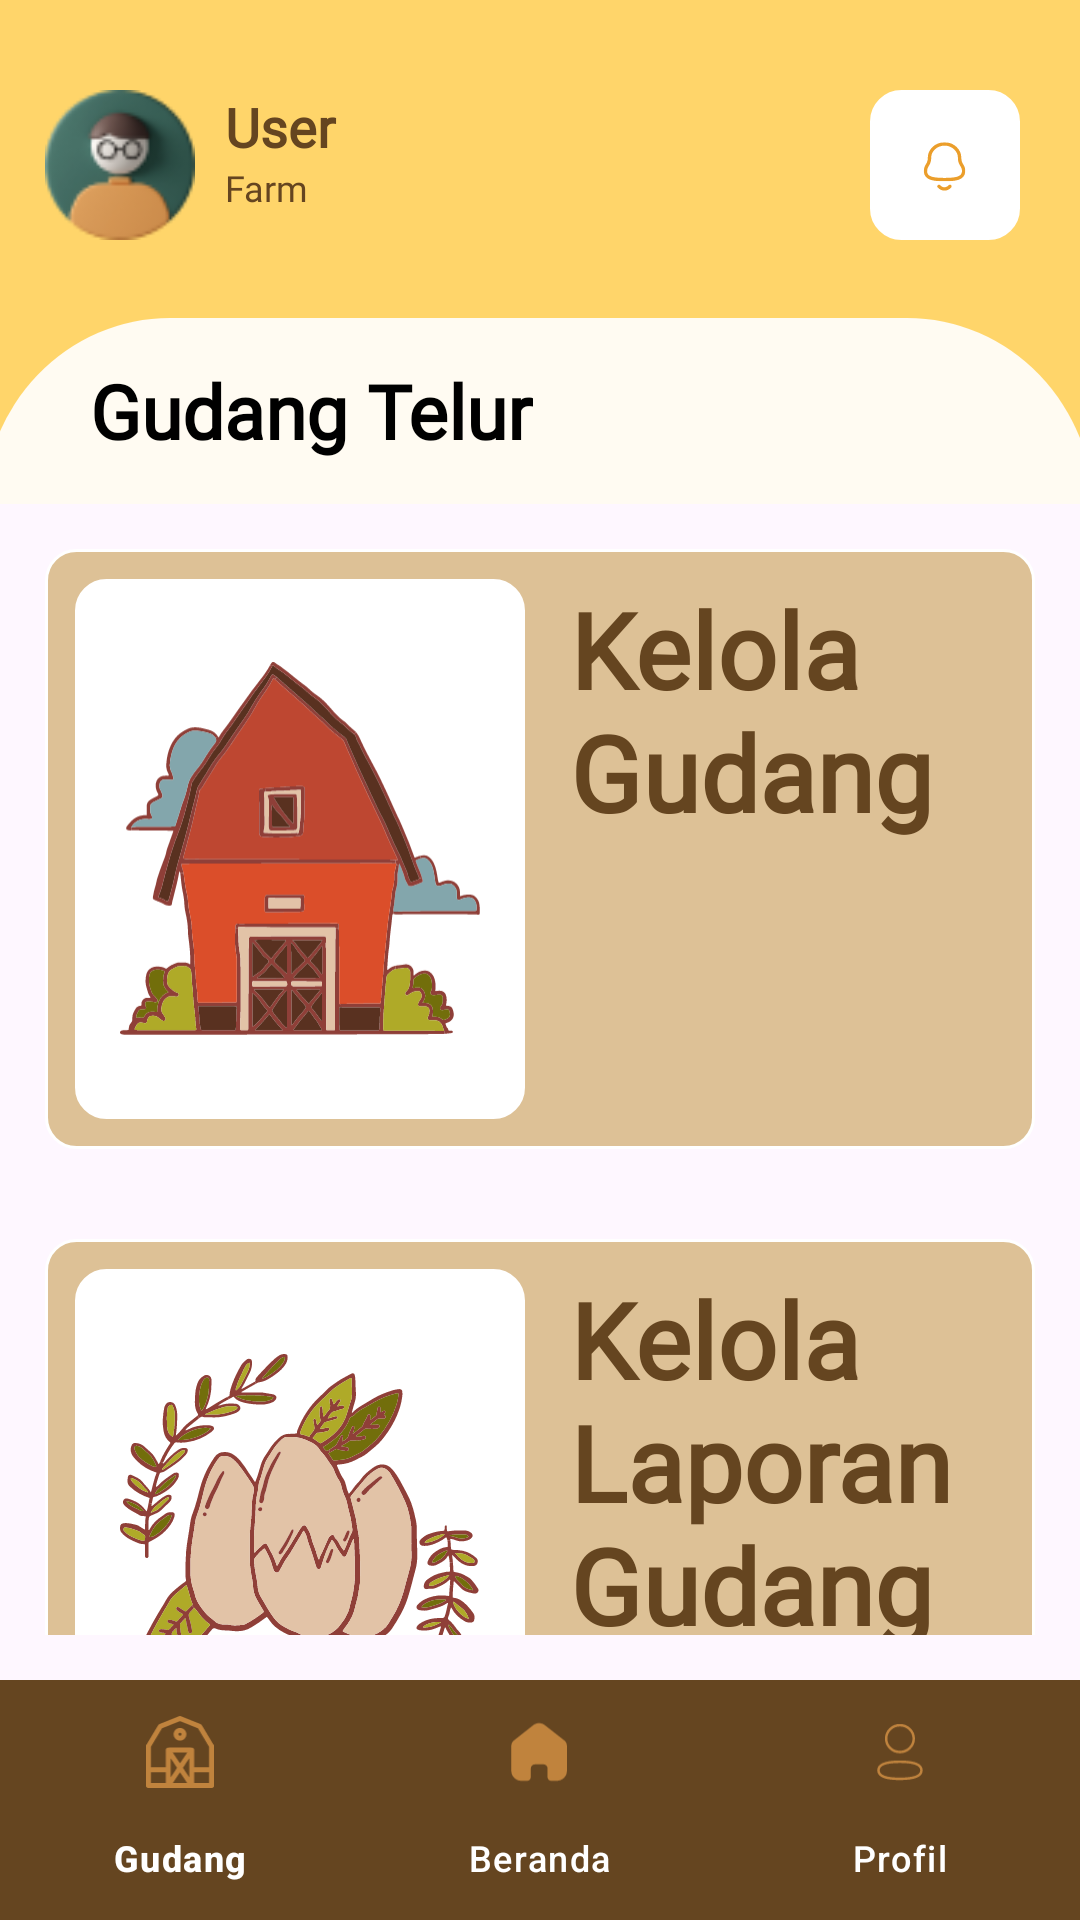

Where icons sit on this 1080*1920 app screen, as (left=x1, top=y1, right=x2, bottom=y2):
bell: (left=870, top=90, right=1020, bottom=240)
profile pic: (left=45, top=90, right=195, bottom=240)
